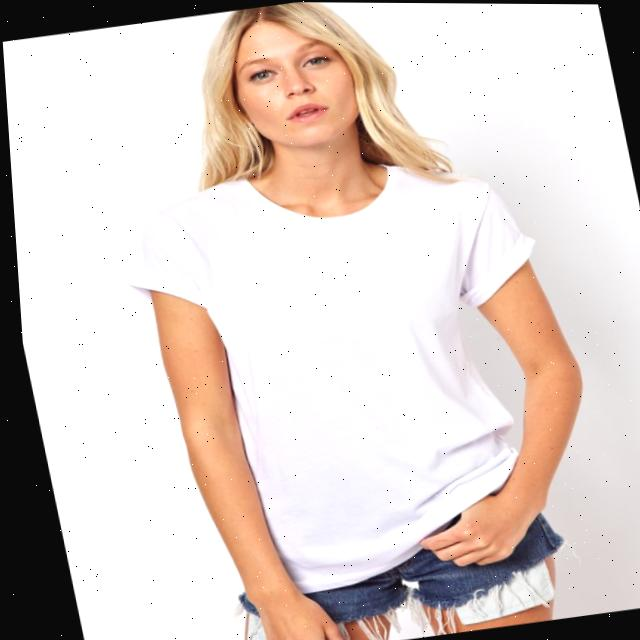Upper-Body: (121, 164, 537, 585)
